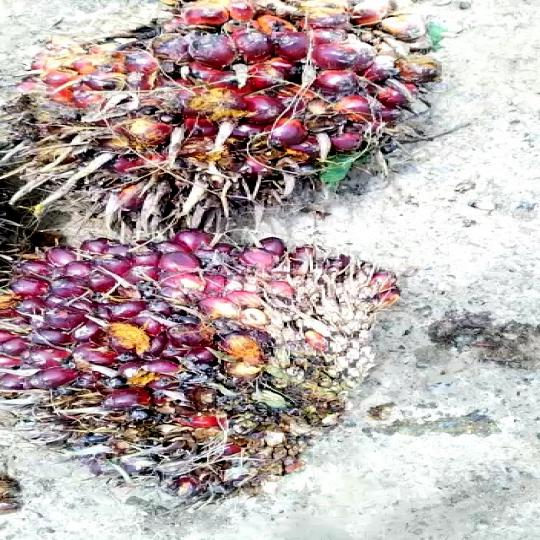masak: (0, 233, 393, 515), (7, 0, 452, 224)
